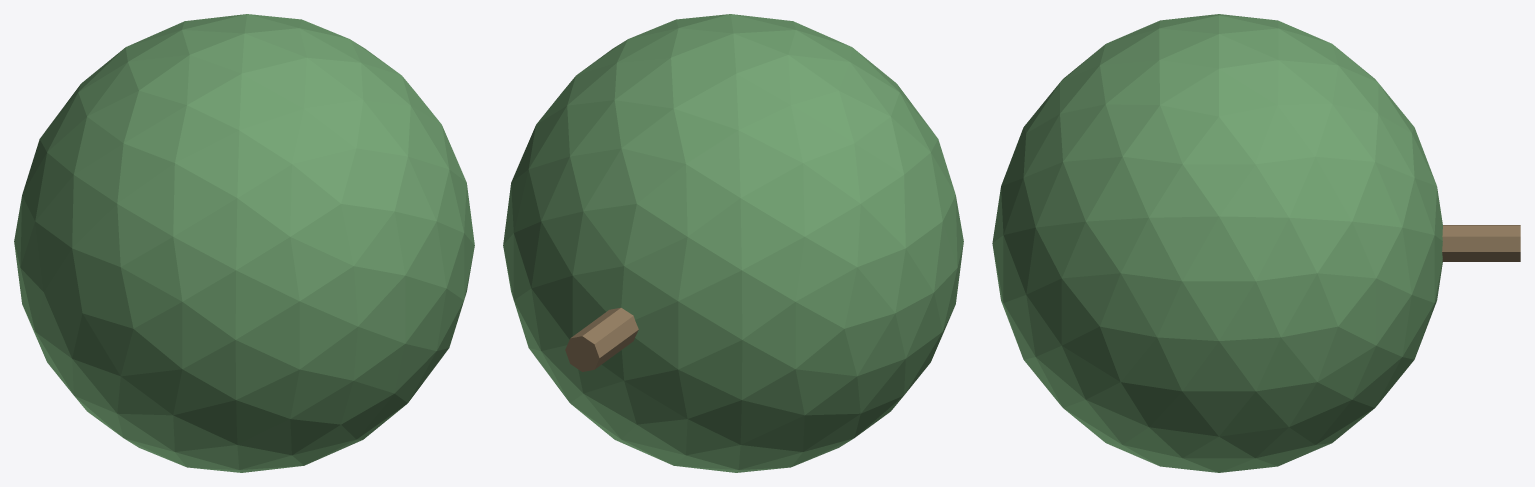
Rendered from curated_oak_tree.glb.
3 renders of one model, left to right at view 1: azimuth 30°, elevation 25°; view 2: azimuth 150°, elevation 25°; view 3: azimuth 270°, elevation 25°, orthographic.
Parts seen in each view (by area): view 1: geometry_0; view 2: geometry_0; view 3: geometry_0.
Boxes of the visible parts, bbox=[...] form: geometry_0: bbox=[14, 14, 474, 472]; geometry_0: bbox=[503, 14, 963, 472]; geometry_0: bbox=[992, 14, 1520, 472].
Bounding box in the file's own units: 7 × 7 × 8.
